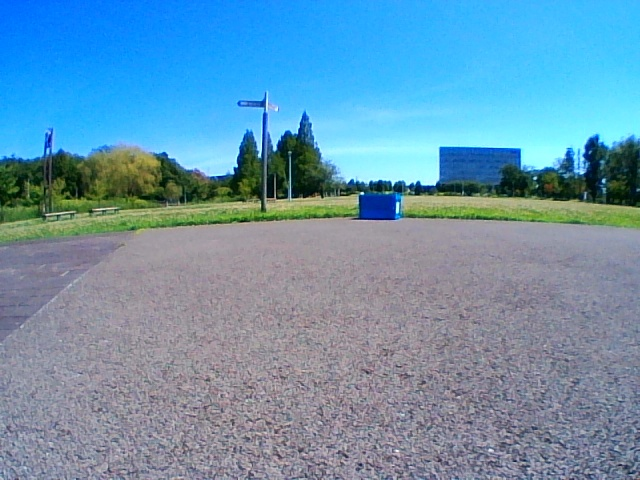blue_box: (359, 193, 399, 220)
tag: (396, 202, 398, 214)
